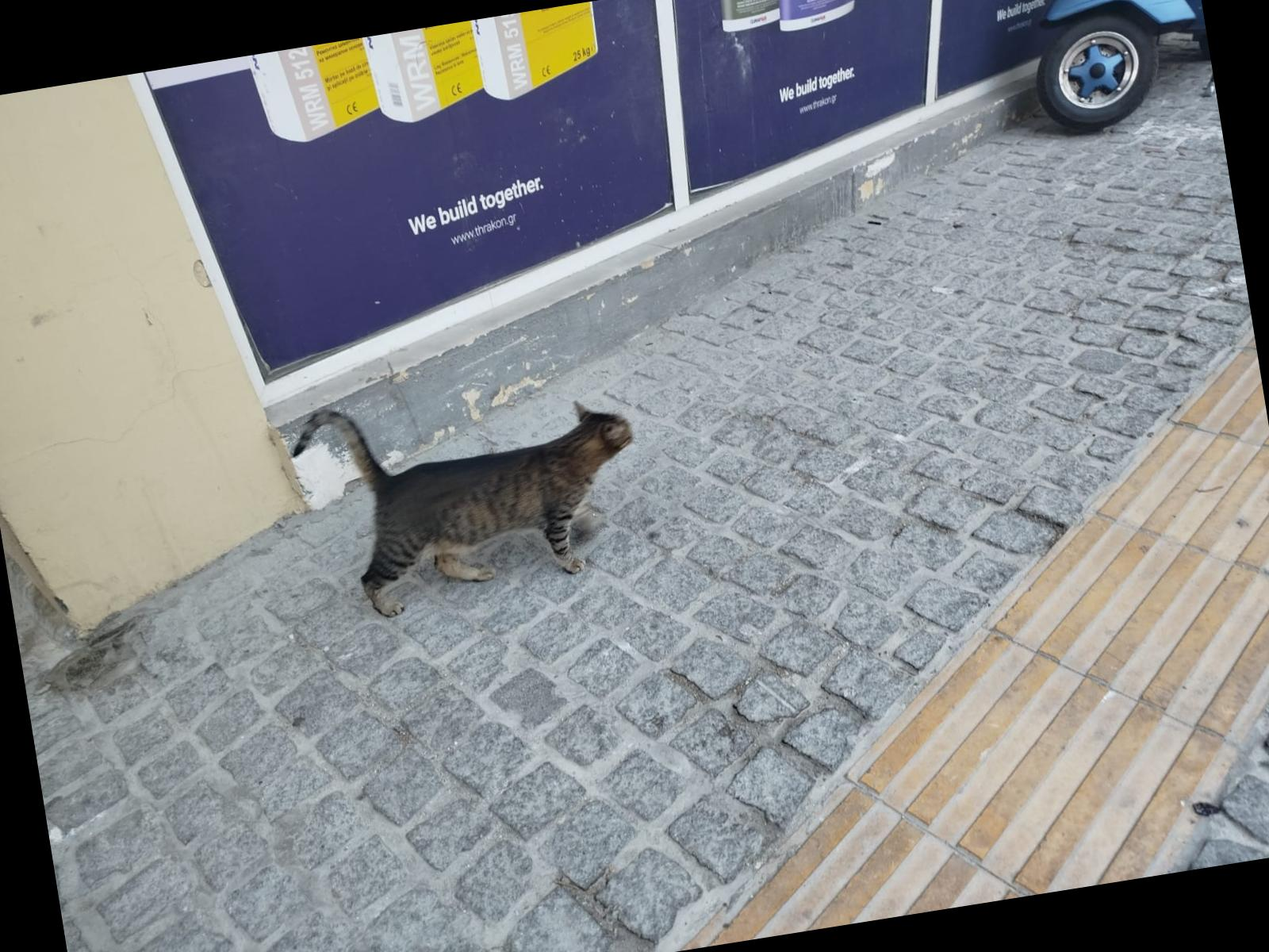macka: (283, 361, 658, 628)
